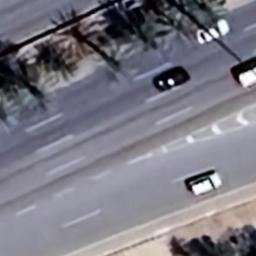SUV: (183, 170, 224, 196)
sedan: (191, 18, 232, 48), (153, 63, 192, 94)
van: (232, 54, 256, 92)
